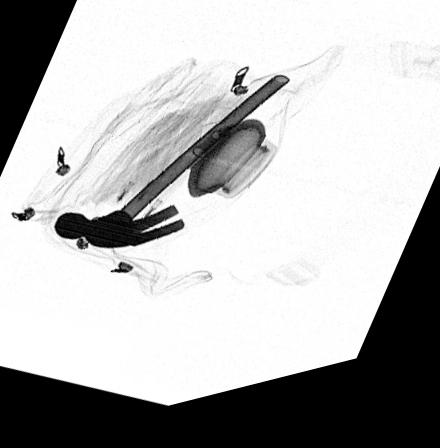Hammer: (52, 86, 291, 253)
